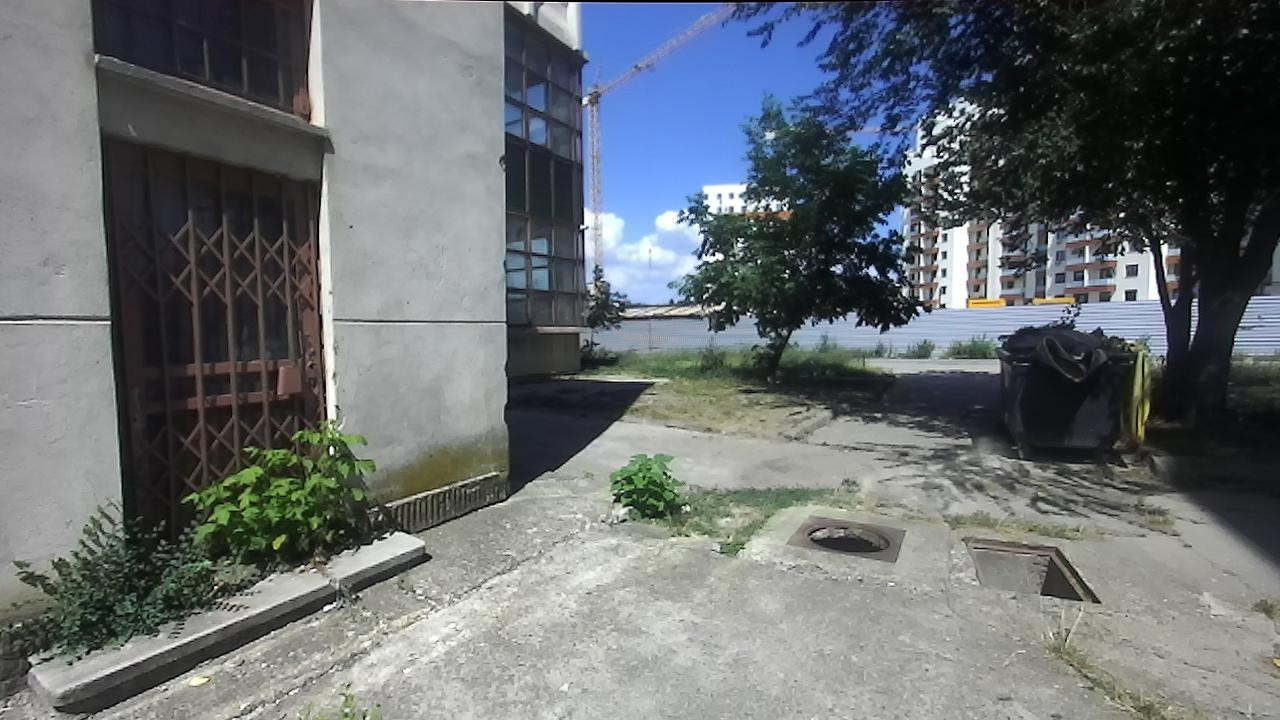drain: (959, 533, 1105, 611), (801, 519, 893, 554)
